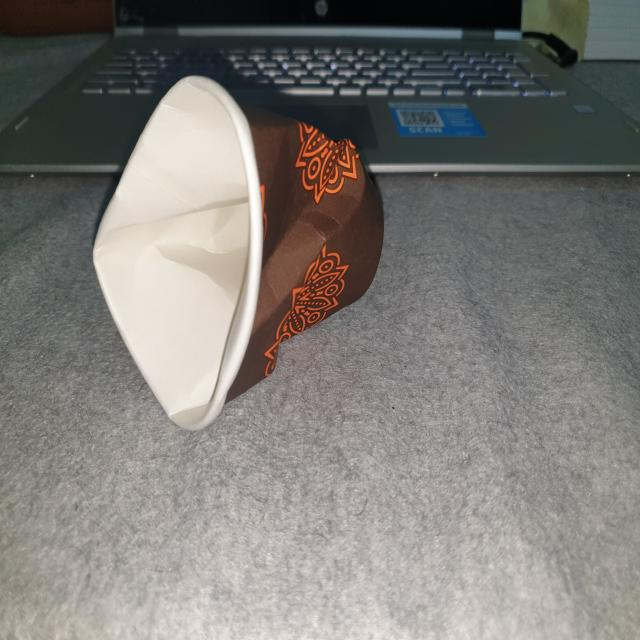cups: (84, 68, 394, 442)
